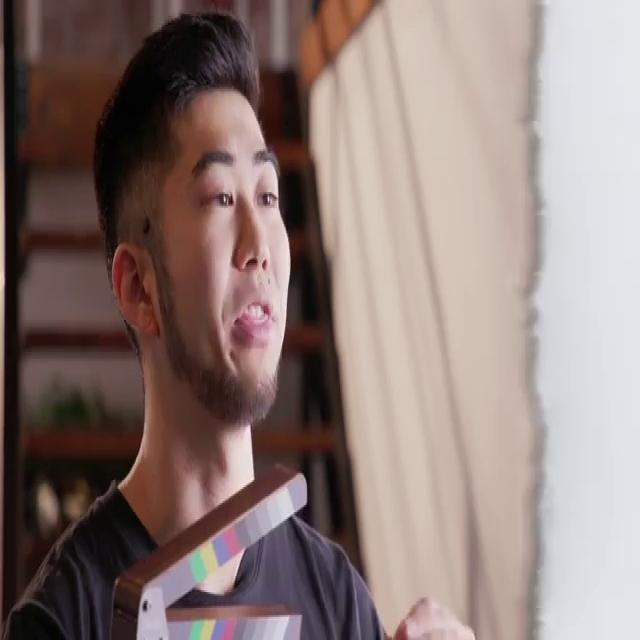Clapperboard: (110, 464, 307, 638)
